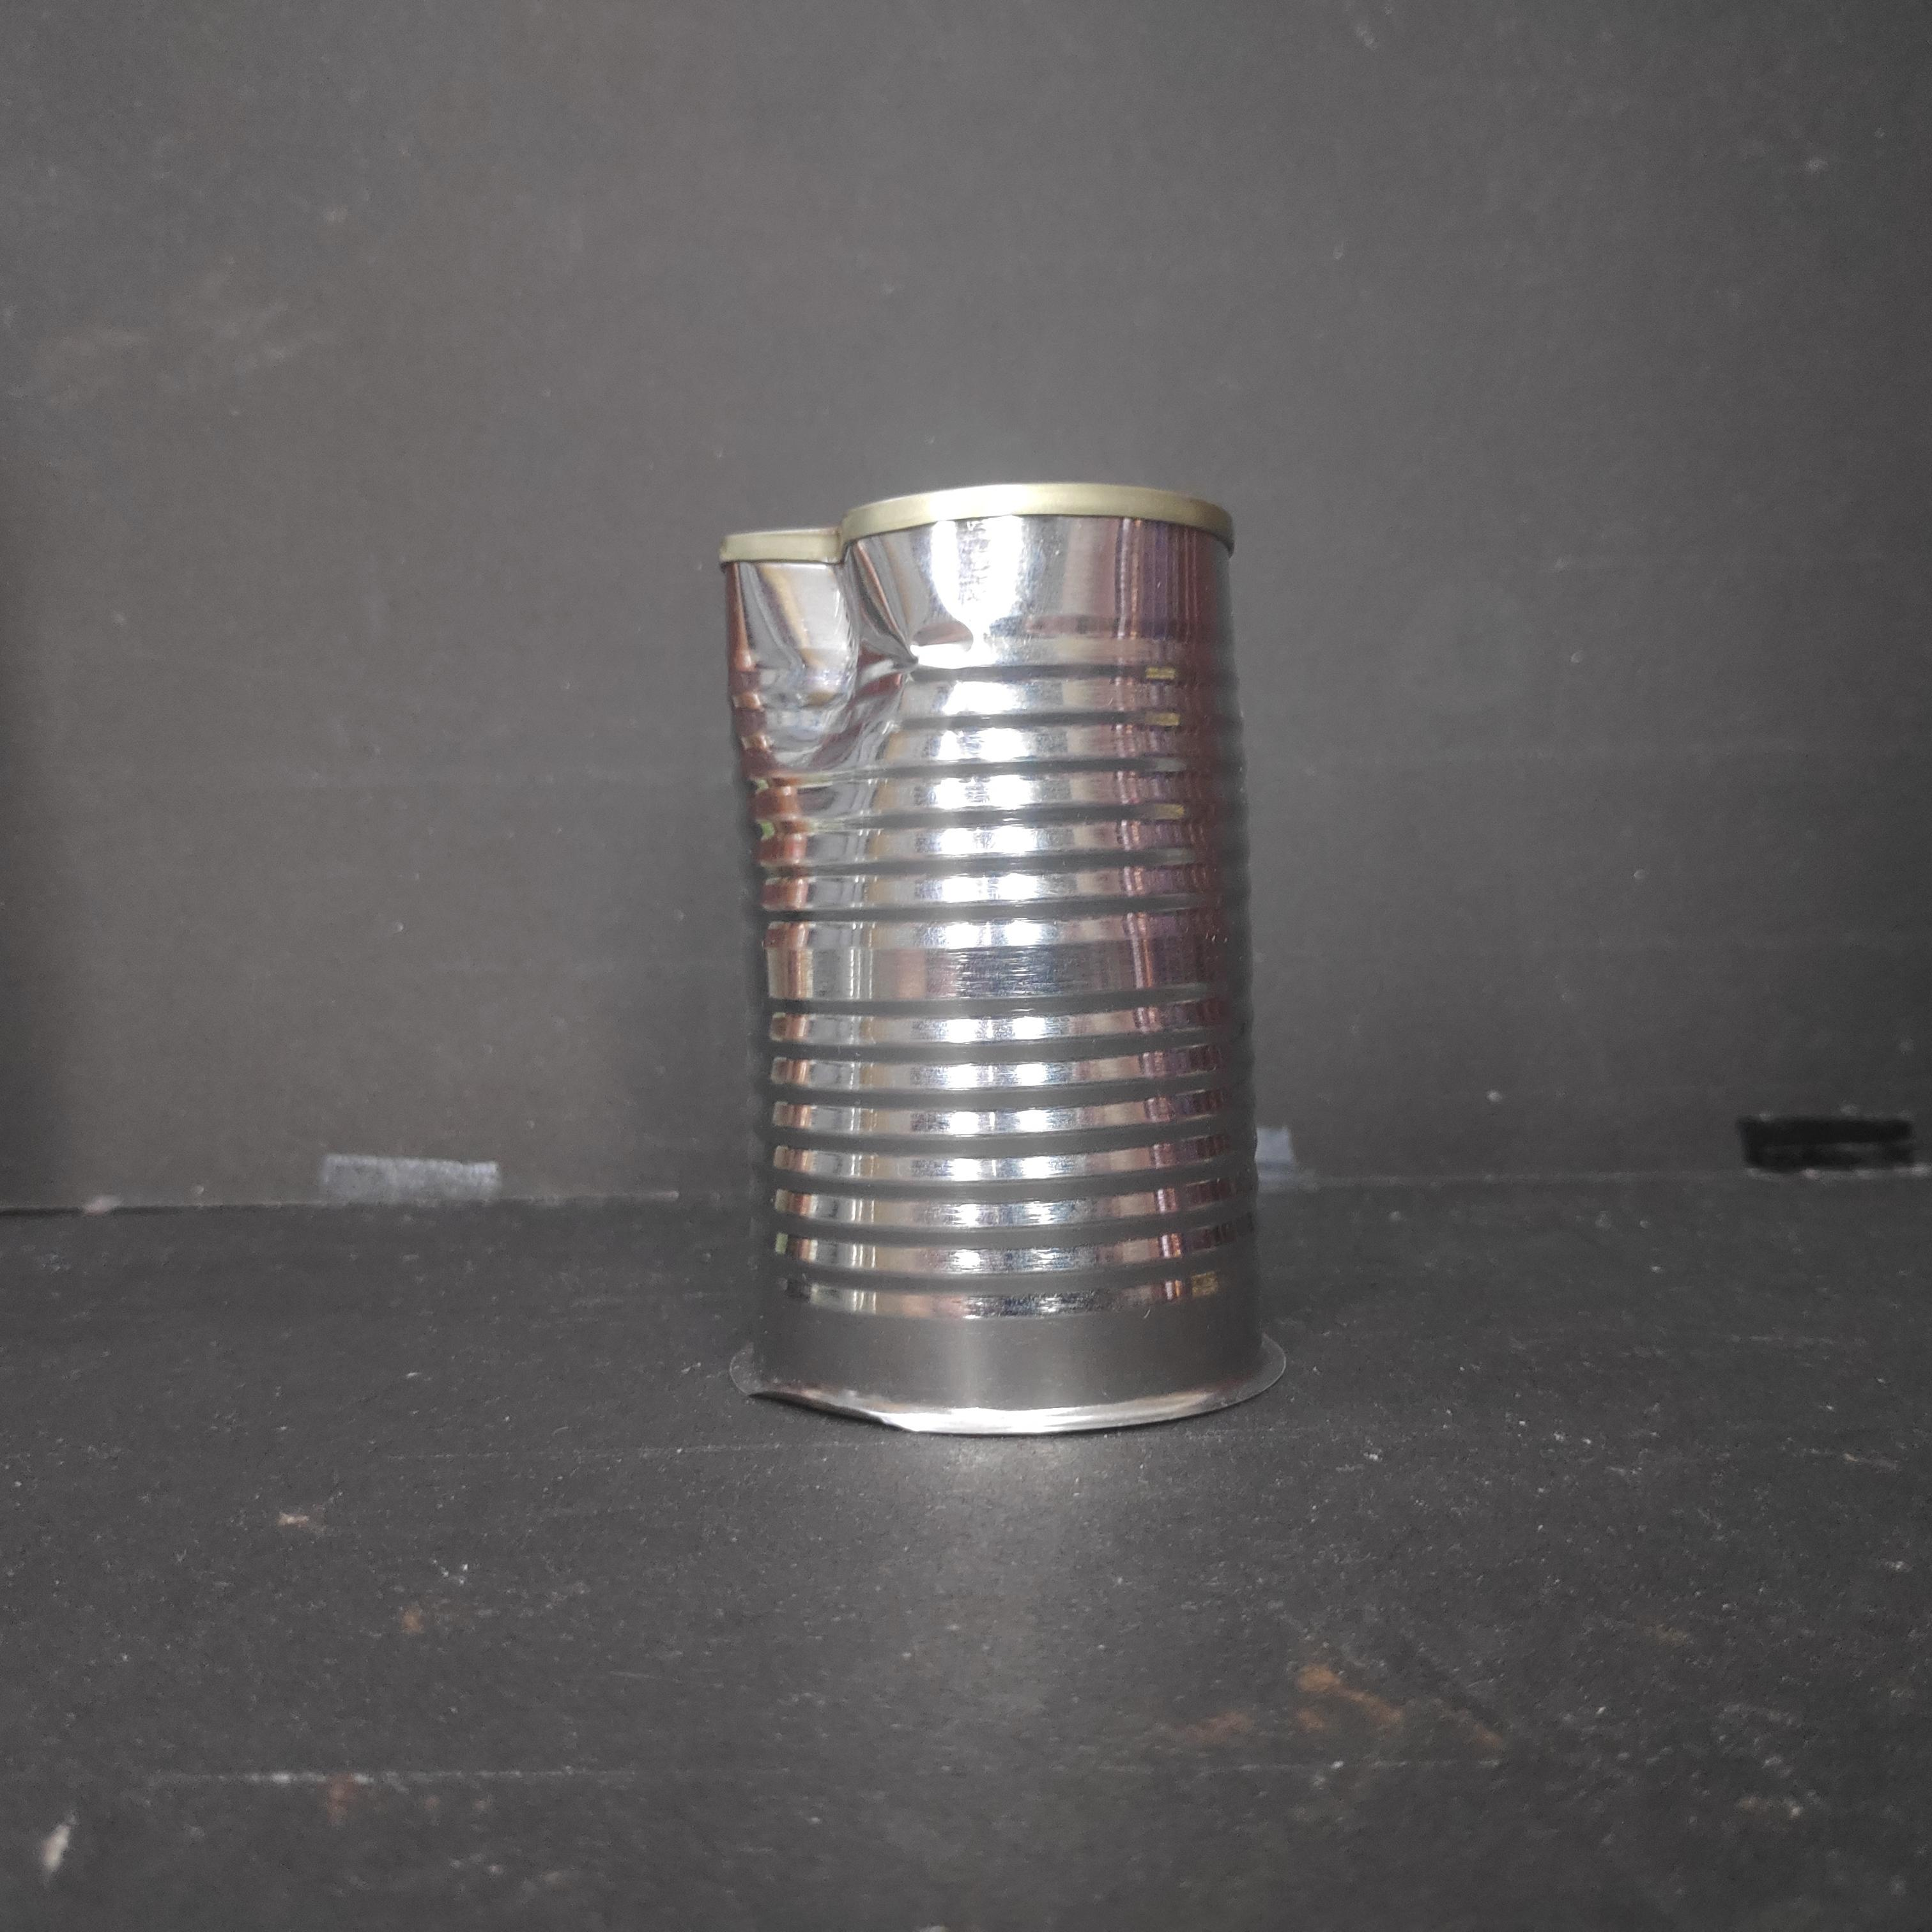Critical Defect: (714, 477, 1281, 1438)
